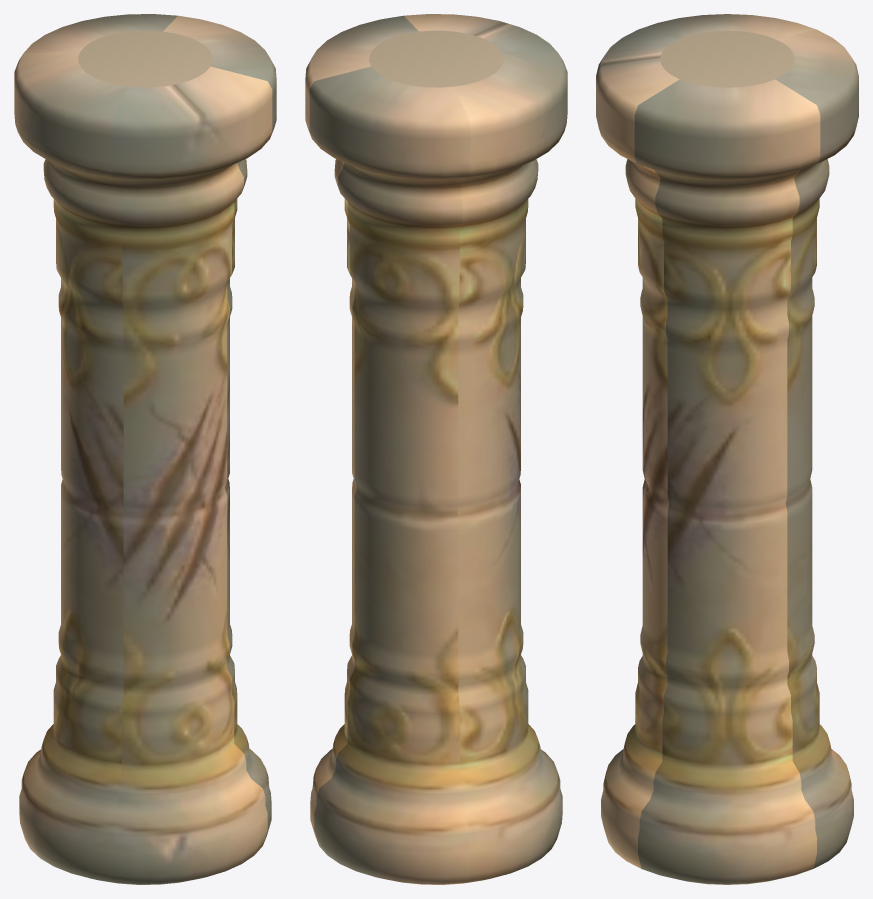
File: arena-pillar-claw.glb
3 views of the same model, side by side, from view 1: azimuth 30°, elevation 25°; view 2: azimuth 150°, elevation 25°; view 3: azimuth 270°, elevation 25° (orthographic).
Parts seen in each view (by area): view 1: piece; view 2: piece; view 3: piece.
Boxes of the visible parts, bbox=[...] form: piece: bbox=[14, 14, 276, 884]; piece: bbox=[305, 14, 567, 884]; piece: bbox=[596, 14, 858, 884].
Size of the model in its own units: 1.45 by 4.8 by 1.45.
Materials: 1 (1 with a texture image).
